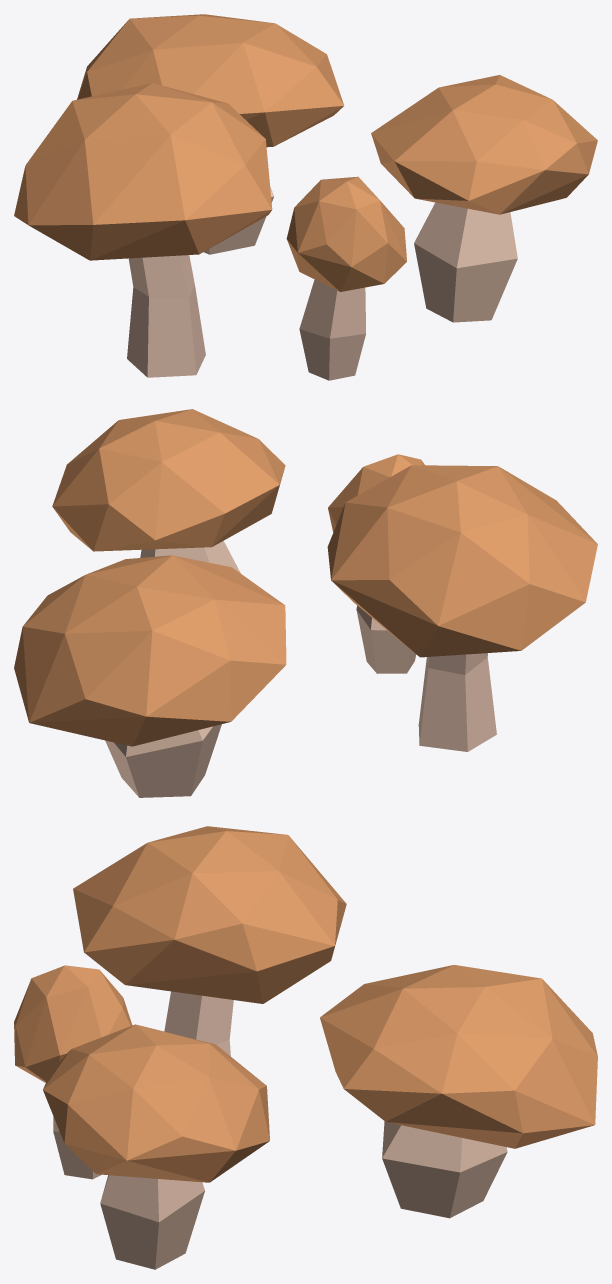
File: Mushroom_f_06.fbx
3 views of the same model, one above another, from view 1: azimuth 30°, elevation 25°; view 2: azimuth 150°, elevation 25°; view 3: azimuth 270°, elevation 25° (orthographic). The views are drawn at different scales.
Visible parts, largest first — view 1: Mushroom_f_06; view 2: Mushroom_f_06; view 3: Mushroom_f_06.
Part boxes in pixels (left/top/right/bottom): Mushroom_f_06: left=14, top=14, right=597, bottom=380; Mushroom_f_06: left=14, top=409, right=597, bottom=797; Mushroom_f_06: left=14, top=826, right=597, bottom=1269.
Bounding box in the file's own units: 54.15 × 25.7 × 49.3.
